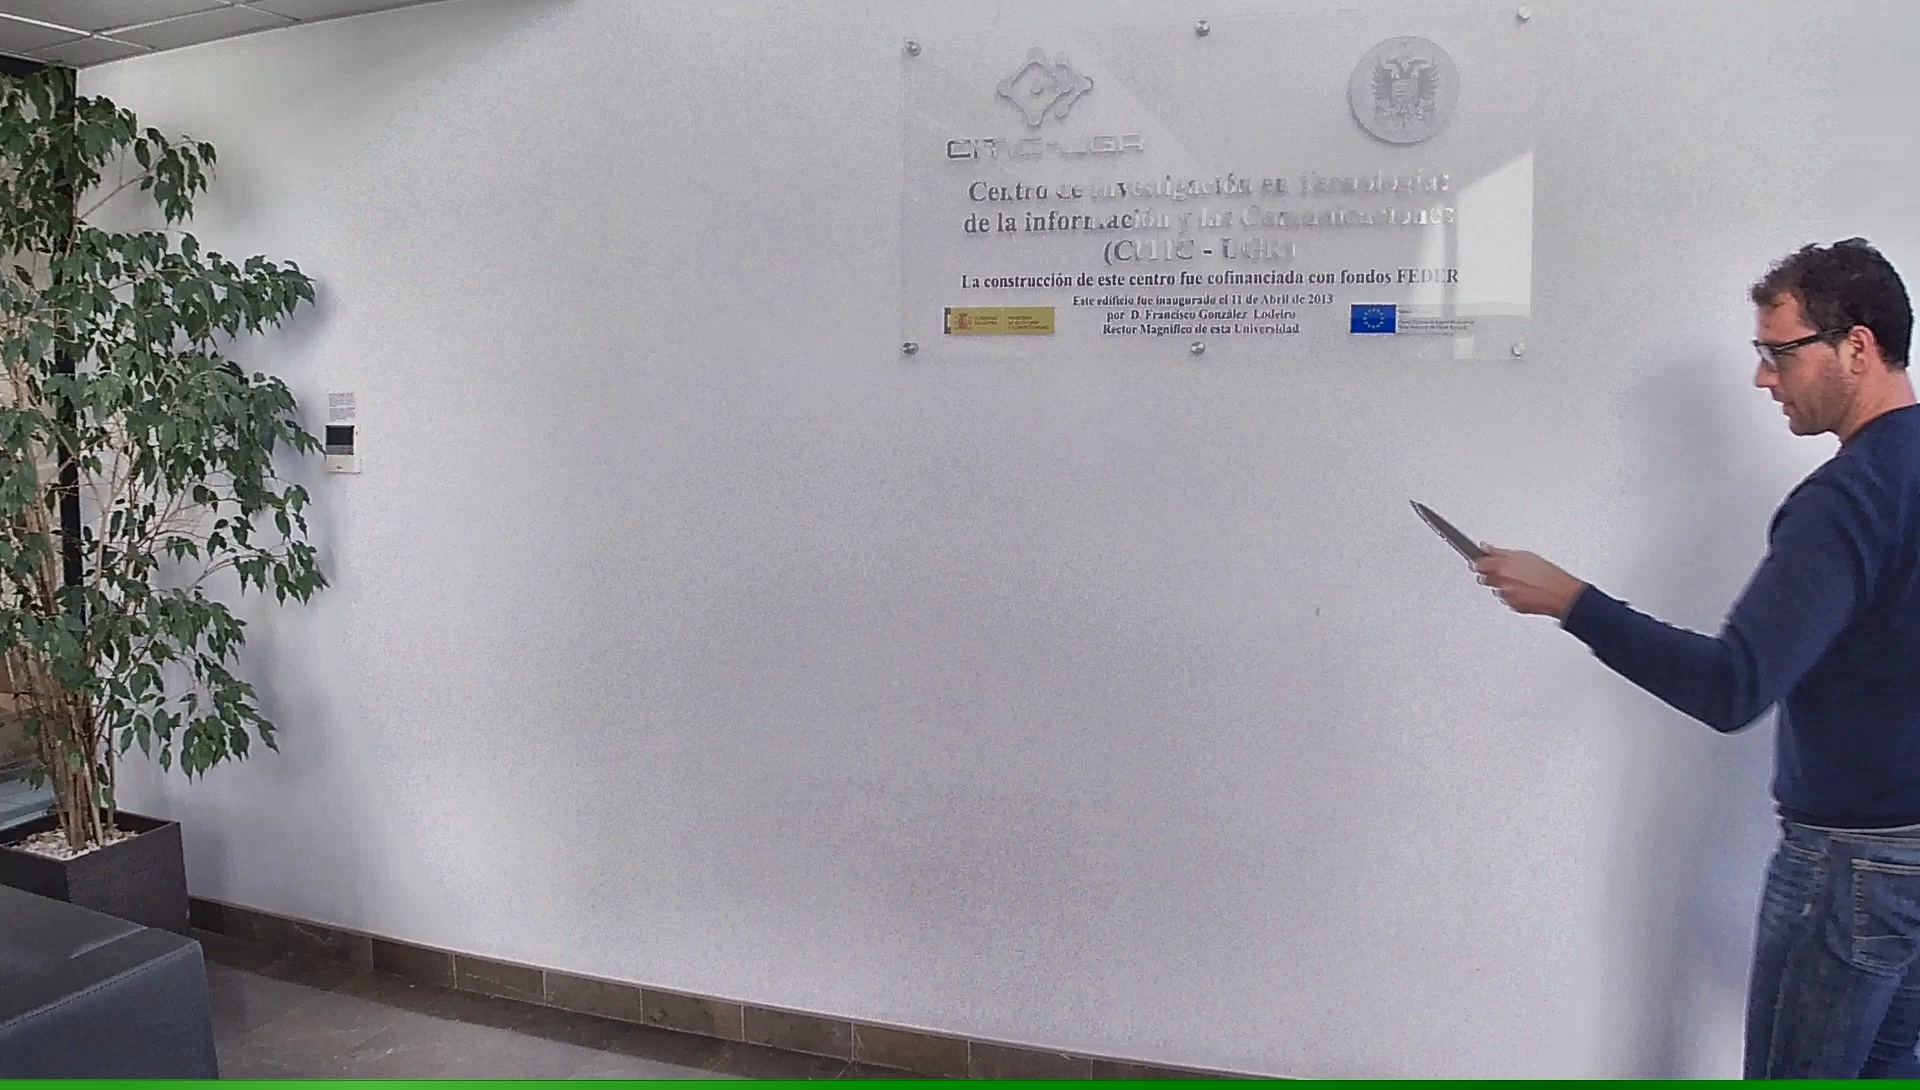knife: (1399, 489, 1526, 608)
